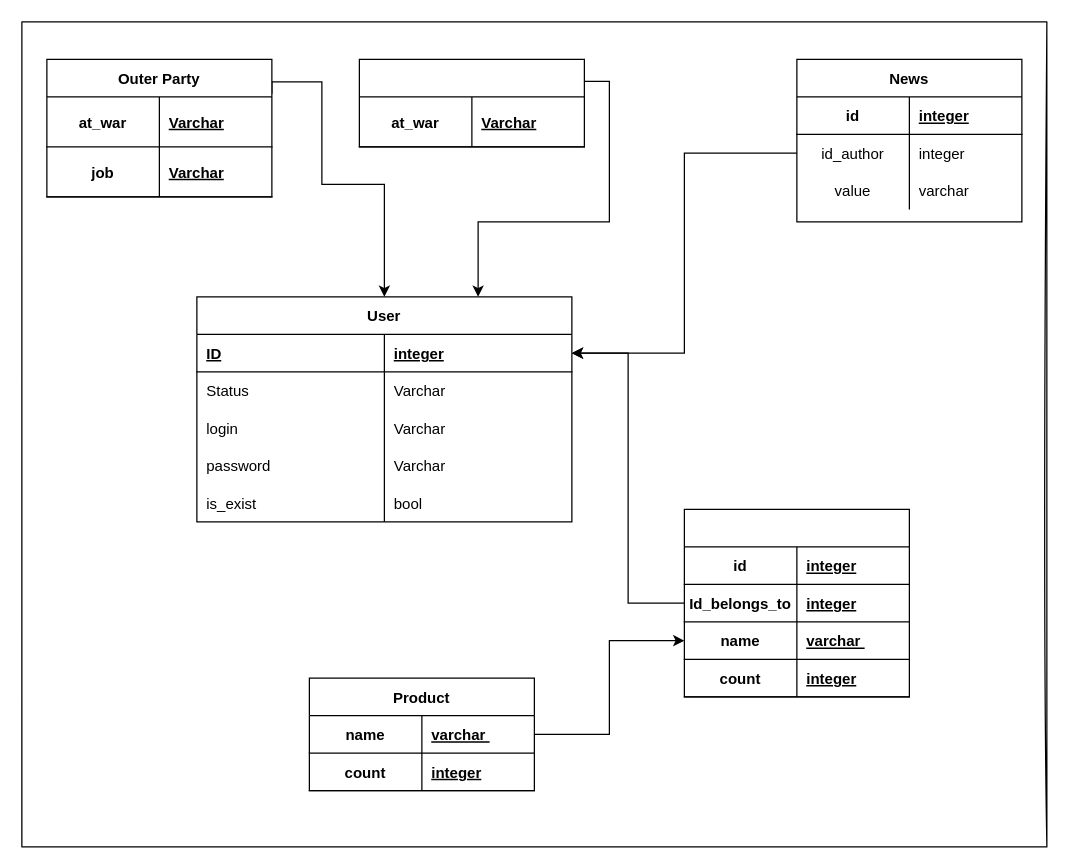
Some shapes in this 1069 by 868 pixel diagram are drawn without their labels. Here are the shapes that lost their labels. From the top down, the box of each, then its label:
(358, 58, 584, 147): Prole
(683, 508, 909, 697): ProductsDiv
